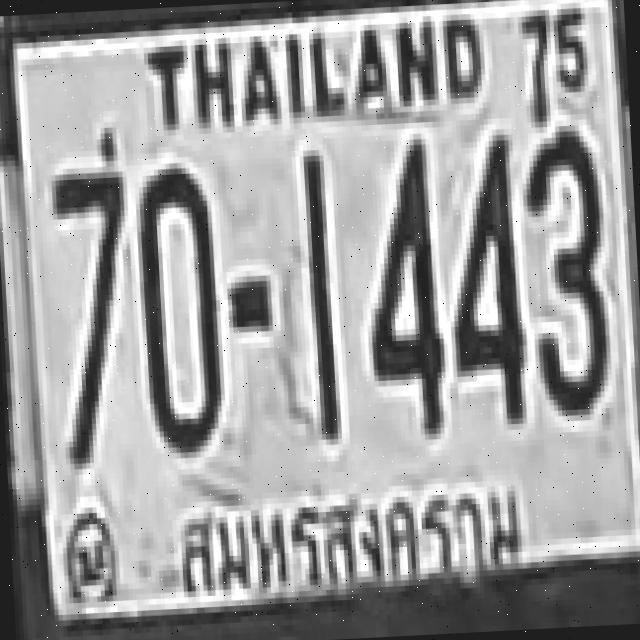0: (136, 161, 226, 449)
1: (302, 147, 339, 432), (302, 153, 338, 410)
3: (520, 124, 610, 412)
4: (358, 136, 444, 434), (441, 129, 523, 422)
7: (50, 169, 136, 462), (49, 166, 132, 403), (49, 166, 130, 358)
SamutSongkhram: (164, 467, 534, 605)
